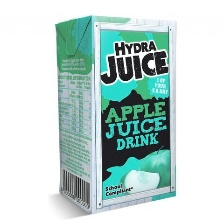carton: (51, 11, 181, 215)
